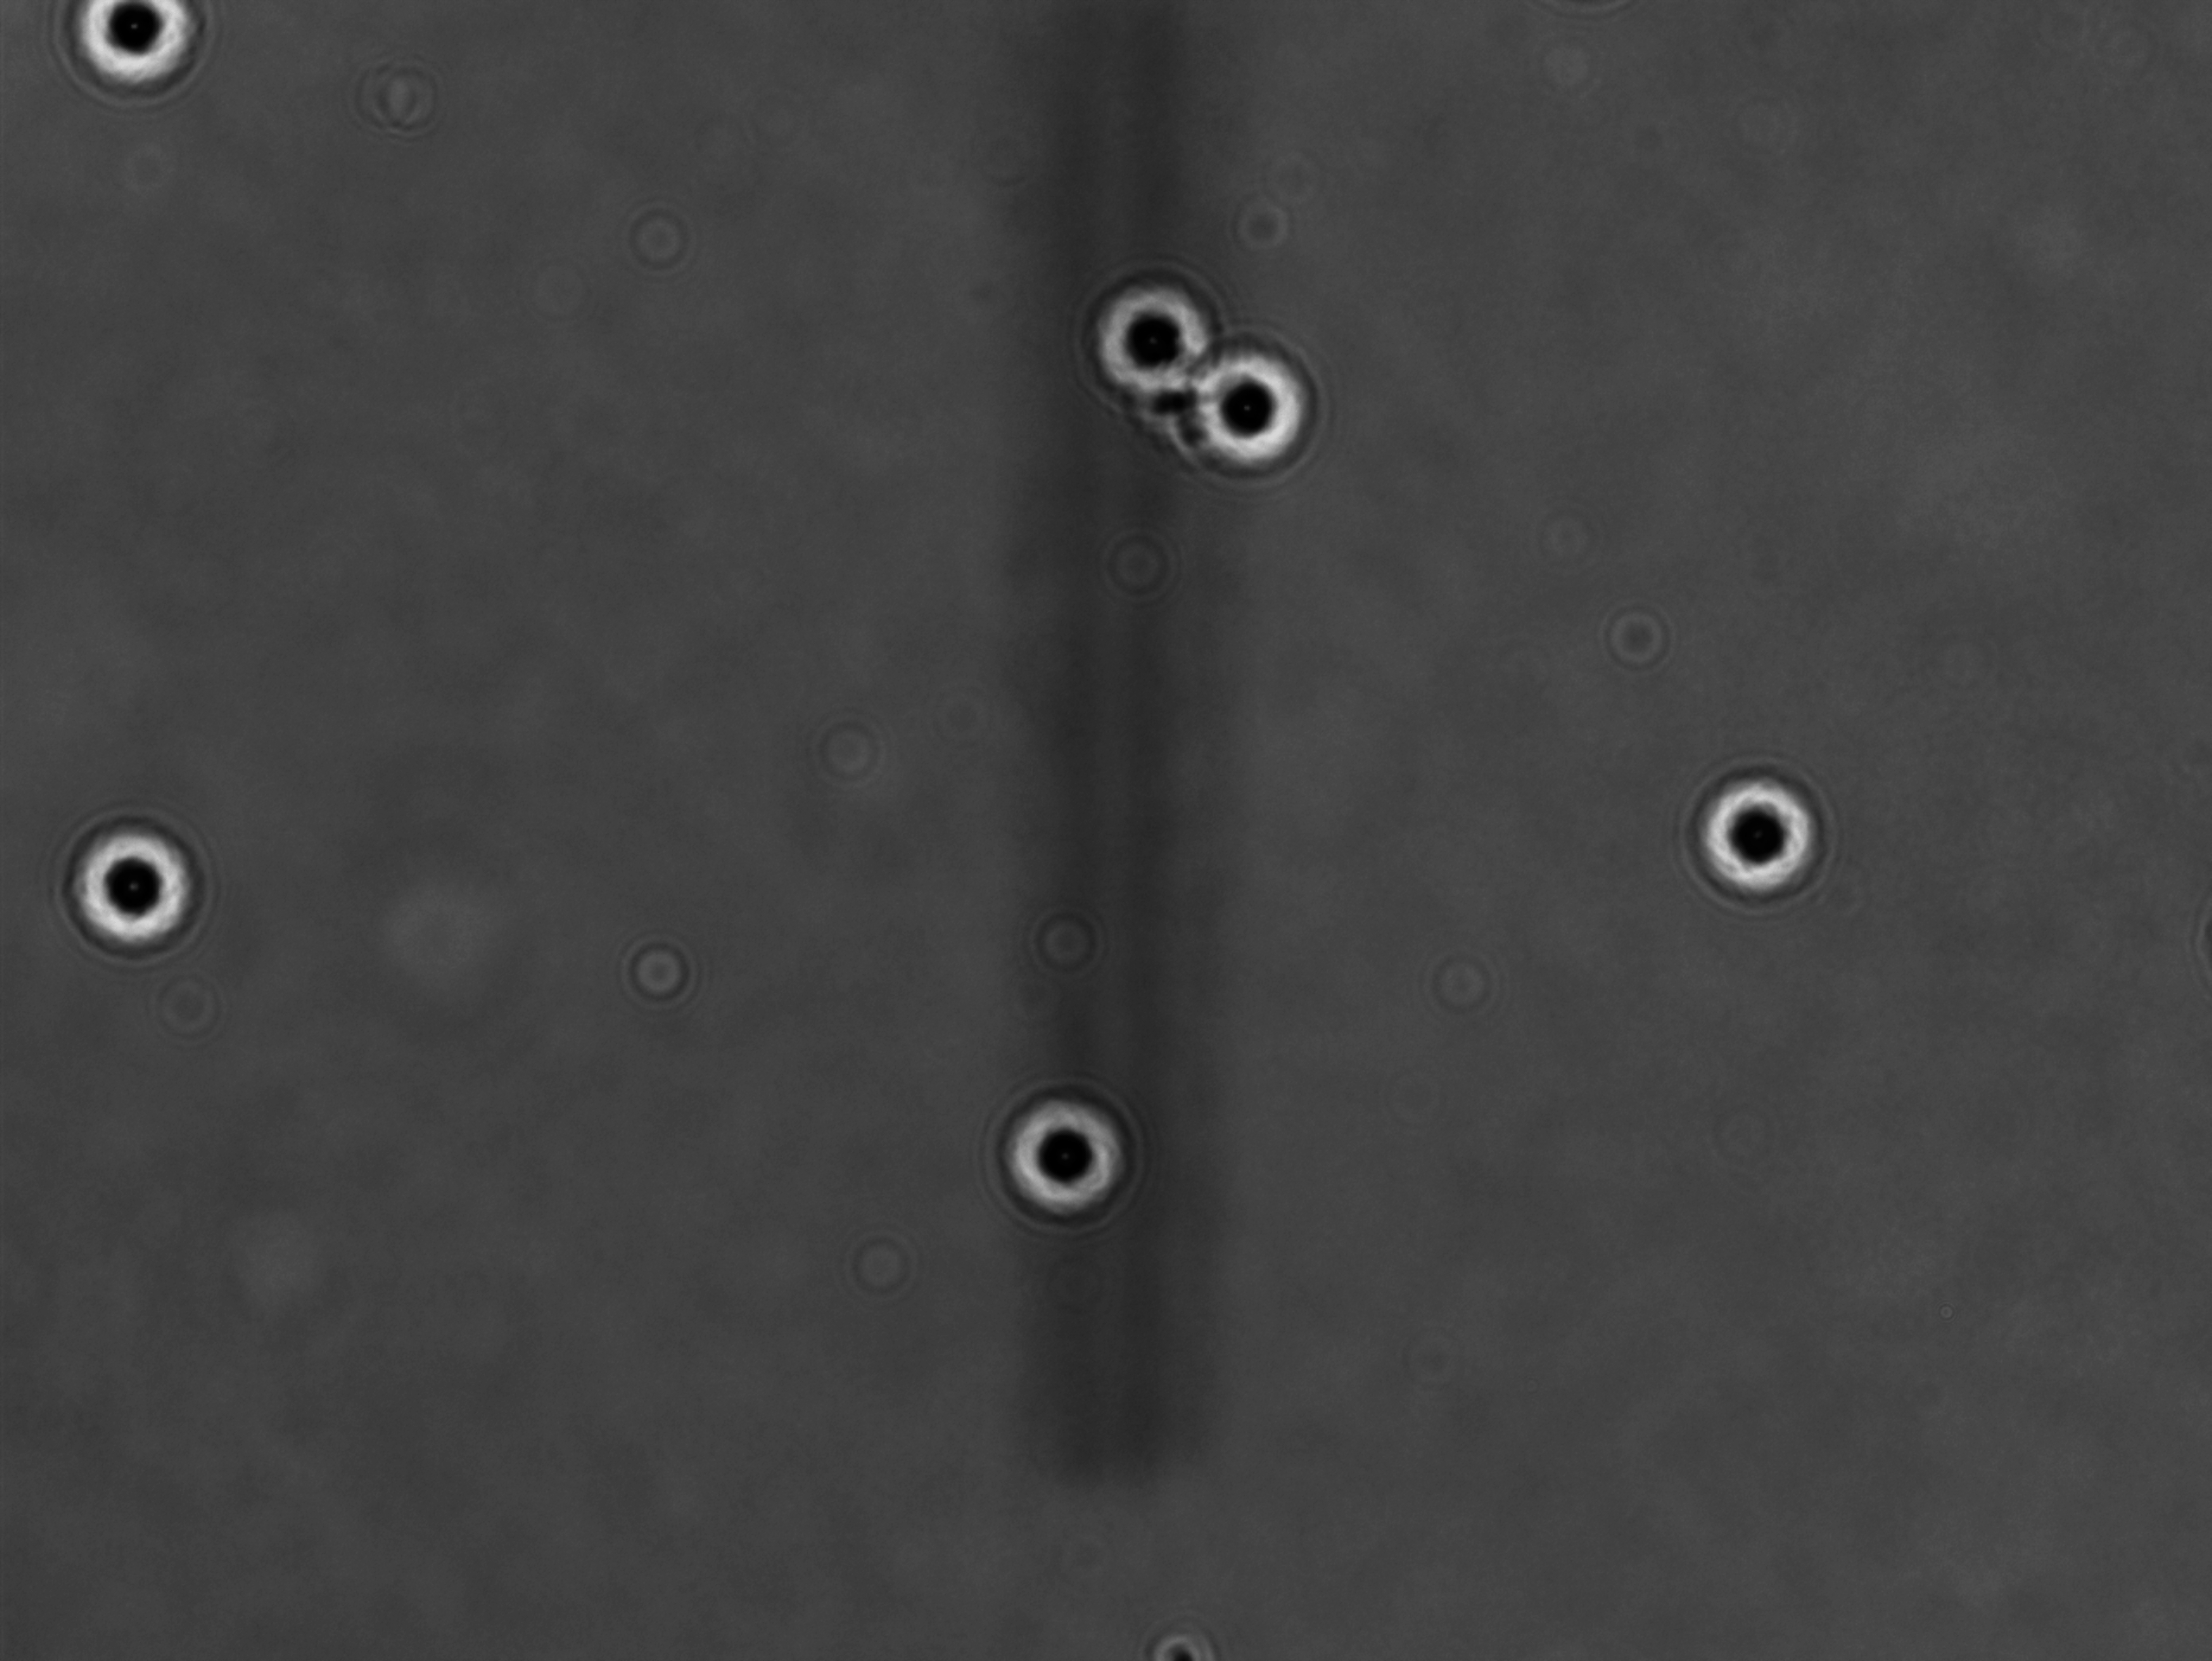depth:-20: (1675, 745, 1846, 919), (42, 801, 216, 967), (1059, 260, 1240, 414), (1169, 330, 1335, 487), (984, 1080, 1143, 1228)
